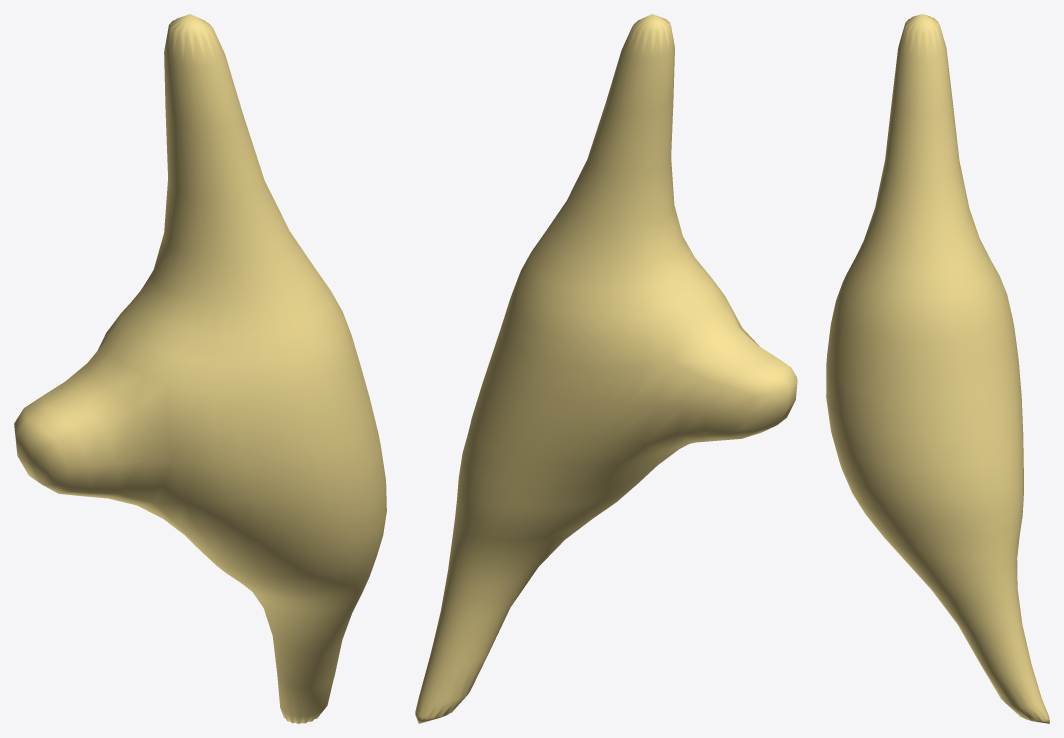
3 renders of one model, left to right at view 1: azimuth 30°, elevation 25°; view 2: azimuth 150°, elevation 25°; view 3: azimuth 270°, elevation 25°, orthographic. The views are drawn at different scales.
Visible parts, largest first — view 1: ZA_fc97e83e4ee660bc; view 2: ZA_fc97e83e4ee660bc; view 3: ZA_fc97e83e4ee660bc.
Boxes of the visible parts, left/top/right/bottom form: ZA_fc97e83e4ee660bc: left=14, top=14, right=386, bottom=723; ZA_fc97e83e4ee660bc: left=415, top=14, right=797, bottom=723; ZA_fc97e83e4ee660bc: left=826, top=14, right=1049, bottom=723.
Size of the model in its own units: 0.0065 by 0.0137 by 0.00435.
